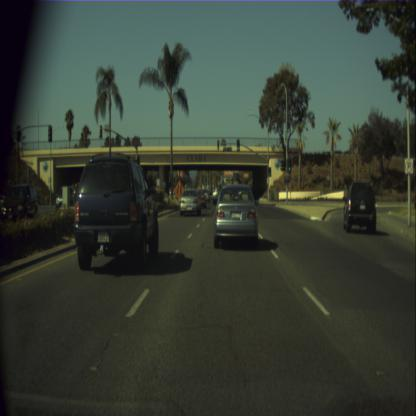Green: (287, 158, 291, 172), (236, 139, 240, 151), (268, 167, 271, 176), (217, 139, 219, 149)
